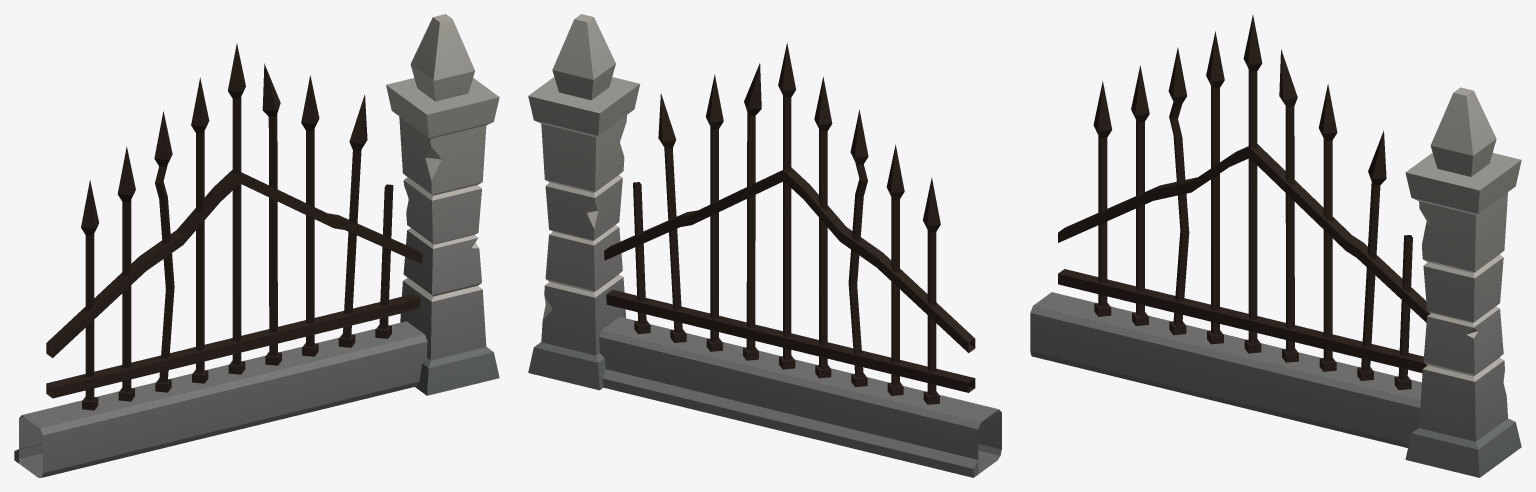
Rendered from School_fence_02.fbx.
The picture shows the model from 3 angles, left to right: view 1: azimuth 30°, elevation 25°; view 2: azimuth 150°, elevation 25°; view 3: azimuth 330°, elevation 25°; orthographic projection. The views are drawn at different scales.
Visible parts, largest first — view 1: Fence_2.001; view 2: Fence_2.001; view 3: Fence_2.001.
Boxes of the visible parts, bbox=[...] form: Fence_2.001: bbox=[14, 14, 499, 477]; Fence_2.001: bbox=[528, 14, 1001, 477]; Fence_2.001: bbox=[1030, 15, 1521, 477].
Size of the model in its own units: 3.7 by 2.99 by 0.5872.
